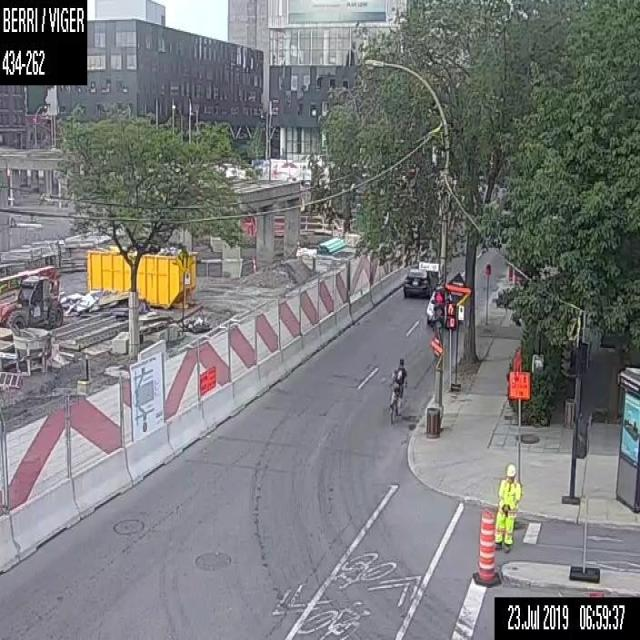construction: (0, 147, 469, 574), (508, 346, 531, 480), (477, 507, 495, 580)
cyclist: (388, 356, 407, 421)
pedestrian: (492, 462, 522, 554)
vehicle: (0, 274, 62, 330), (426, 288, 457, 329), (402, 265, 436, 297)
